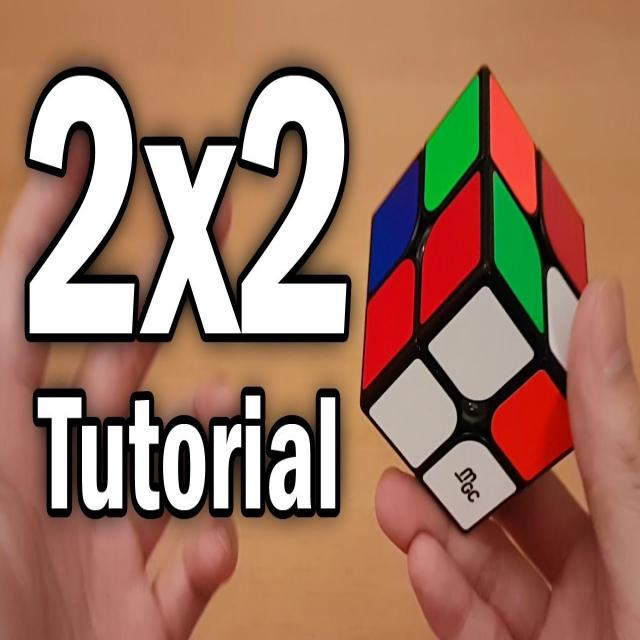cube: (360, 65, 588, 522)
